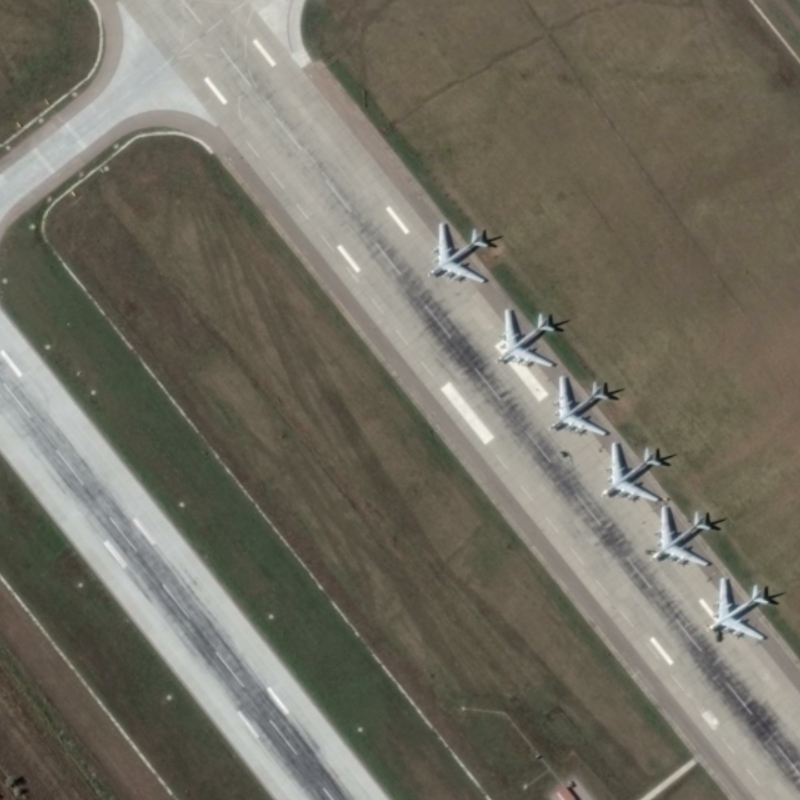A17: (425, 216, 497, 286), (703, 575, 775, 644), (492, 304, 560, 371), (598, 440, 668, 504), (647, 502, 713, 569), (547, 371, 612, 439)
